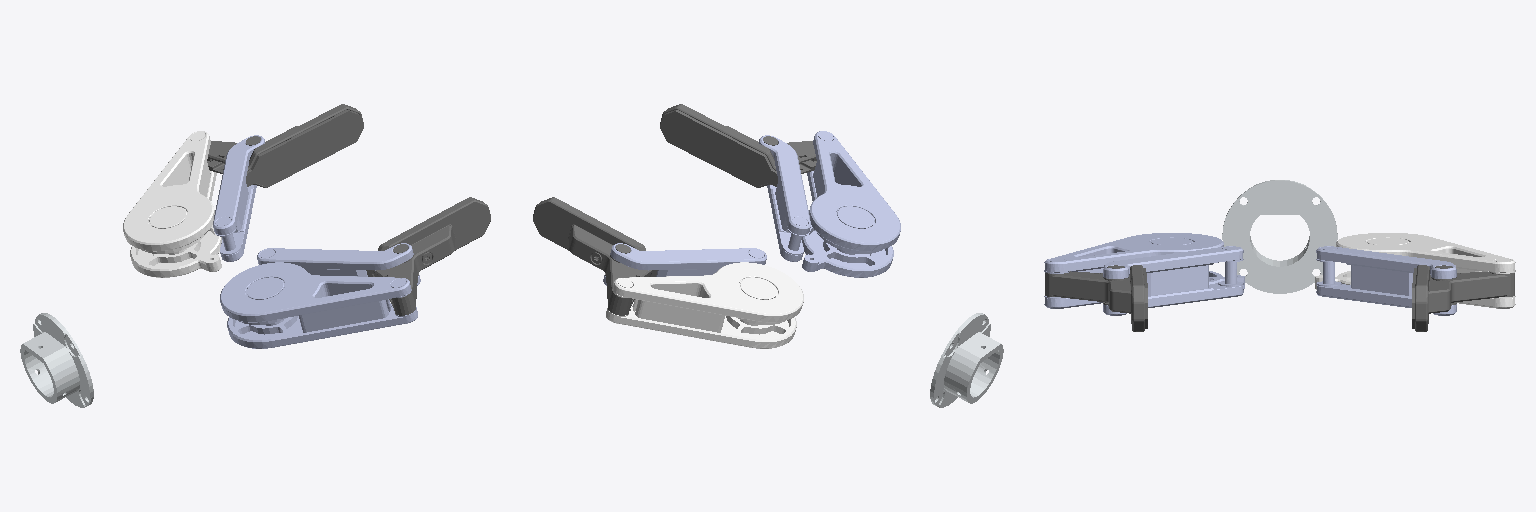
robot.urdf — DAS_Controller_V3_with_flange:
<?xml version="1.0" encoding="utf-8"?>
<!-- This URDF was automatically created by SolidWorks to URDF Exporter! Originally created by Stephen Brawner (brawner@gmail.com) 
     Commit Version: 1.6.0-4-g7f85cfe  Build Version: 1.6.7995.38578
     For more information, please see http://wiki.ros.org/sw_urdf_exporter -->
<robot
  name="DAS_Controller_V3_with_flange">
  <link
    name="base_link">
    <inertial>
      <origin
        xyz="-0.00473369666263078 0.000235956784116321 -0.0608228433401642"
        rpy="0 0 0" />
      <mass
        value="0.149856577681617" />
      <inertia
        ixx="0.00018830674510593"
        ixy="-6.78422090666385E-08"
        ixz="-1.96182253543102E-05"
        iyy="0.000106763841779269"
        iyz="1.81634805776435E-07"
        izz="0.000171533715802352" />
    </inertial>
    <visual>
      <origin
        xyz="0 0 0"
        rpy="0 0 0" />
      <geometry>
        <mesh
          filename="package://DAS_Controller_V3_with_flange/meshes/base_link.STL" />
      </geometry>
      <material
        name="">
        <color
          rgba="1 1 1 1" />
      </material>
    </visual>
    <collision>
      <origin
        xyz="0 0 0"
        rpy="0 0 0" />
      <geometry>
        <mesh
          filename="package://DAS_Controller_V3_with_flange/meshes/base_link.STL" />
      </geometry>
    </collision>
  </link>
  <link
    name="link1">
    <inertial>
      <origin
        xyz="0.0115012193603452 0.0137058307430064 -0.00861235542549358"
        rpy="0 0 0" />
      <mass
        value="0.02093495331508" />
      <inertia
        ixx="6.73989068995237E-06"
        ixy="-3.95839022559359E-06"
        ixz="2.01490719917717E-07"
        iyy="5.2567343731997E-06"
        iyz="3.13955918088435E-07"
        izz="1.15095149501083E-05" />
    </inertial>
    <visual>
      <origin
        xyz="0 0 0"
        rpy="0 0 0" />
      <geometry>
        <mesh
          filename="package://DAS_Controller_V3_with_flange/meshes/link1.STL" />
      </geometry>
      <material
        name="">
        <color
          rgba="1 1 1 1" />
      </material>
    </visual>
    <collision>
      <origin
        xyz="0 0 0"
        rpy="0 0 0" />
      <geometry>
        <mesh
          filename="package://DAS_Controller_V3_with_flange/meshes/link1.STL" />
      </geometry>
    </collision>
  </link>
  <joint
    name="joint1"
    type="revolute">
    <origin
      xyz="0.022786 0.042961 -0.059233"
      rpy="0 -0.2618 0" />
    <parent
      link="base_link" />
    <child
      link="link1" />
    <axis
      xyz="0 0 -1" />
    <limit
      lower="0"
      upper="0.925"
      effort="100"
      velocity="1" />
  </joint>
  <link
    name="link3">
    <inertial>
      <origin
        xyz="0.0281972854196237 -0.0278445505366139 -0.00938621959400143"
        rpy="0 0 0" />
      <mass
        value="0.0203237501202117" />
      <inertia
        ixx="8.44286661949908E-07"
        ixy="4.18698059122221E-07"
        ixz="2.15036107726852E-12"
        iyy="4.90959334176647E-06"
        iyz="2.50859869970747E-14"
        izz="4.88890712917801E-06" />
    </inertial>
    <visual>
      <origin
        xyz="0 0 0"
        rpy="0 0 0" />
      <geometry>
        <mesh
          filename="package://DAS_Controller_V3_with_flange/meshes/link3.STL" />
      </geometry>
      <material
        name="">
        <color
          rgba="0.498039215686275 0.498039215686275 0.498039215686275 1" />
      </material>
    </visual>
    <collision>
      <origin
        xyz="0 0 0"
        rpy="0 0 0" />
      <geometry>
        <mesh
          filename="package://DAS_Controller_V3_with_flange/meshes/link3.STL" />
      </geometry>
    </collision>
  </link>
  <joint
    name="joint3"
    type="revolute">
    <origin
      xyz="0.043182 0.04579 0"
      rpy="0 0 0" />
    <parent
      link="link1" />
    <child
      link="link3" />
    <axis
      xyz="0 0 -1" />
    <limit
      lower="-0.925"
      upper="0"
      effort="100"
      velocity="1" />
    <mimic
      joint="joint1"
      multiplier="-1"
      offset="0" />
  </joint>
  <link
    name="link2">
    <inertial>
      <origin
        xyz="0.0105744231181954 -0.0122453518603421 -0.0114433659540572"
        rpy="0 0 0" />
      <mass
        value="0.0316631540861347" />
      <inertia
        ixx="1.05927284042654E-05"
        ixy="6.10689347695809E-06"
        ixz="1.97264023531489E-07"
        iyy="8.10377382222261E-06"
        iyz="-3.18047314667756E-07"
        izz="1.8172684743536E-05" />
    </inertial>
    <visual>
      <origin
        xyz="0 0 0"
        rpy="0 0 0" />
      <geometry>
        <mesh
          filename="package://DAS_Controller_V3_with_flange/meshes/link2.STL" />
      </geometry>
      <material
        name="">
        <color
          rgba="0.792156862745098 0.819607843137255 0.933333333333333 1" />
      </material>
    </visual>
    <collision>
      <origin
        xyz="0 0 0"
        rpy="0 0 0" />
      <geometry>
        <mesh
          filename="package://DAS_Controller_V3_with_flange/meshes/link2.STL" />
      </geometry>
    </collision>
  </link>
  <joint
    name="joint2"
    type="revolute">
    <origin
      xyz="0.022786 -0.043039 -0.059233"
      rpy="0 -0.2618 0" />
    <parent
      link="base_link" />
    <child
      link="link2" />
    <axis
      xyz="0 0 -1" />
    <limit
      lower="-0.925"
      upper="0"
      effort="100"
      velocity="1" />
    <mimic
      joint="joint1"
      multiplier="-1"
      offset="0" />
  </joint>
  <link
    name="link4">
    <inertial>
      <origin
        xyz="0.0281972854196394 0.0278445505366352 -0.00938623119932044"
        rpy="0 0 0" />
      <mass
        value="0.0203237501202117" />
      <inertia
        ixx="8.44286661950155E-07"
        ixy="-4.1869805912325E-07"
        ixz="-2.15036110100873E-12"
        iyy="4.90959334176622E-06"
        iyz="2.50859839891789E-14"
        izz="4.88890712917801E-06" />
    </inertial>
    <visual>
      <origin
        xyz="0 0 0"
        rpy="0 0 0" />
      <geometry>
        <mesh
          filename="package://DAS_Controller_V3_with_flange/meshes/link4.STL" />
      </geometry>
      <material
        name="">
        <color
          rgba="0.498039215686275 0.498039215686275 0.498039215686275 1" />
      </material>
    </visual>
    <collision>
      <origin
        xyz="0 0 0"
        rpy="0 0 0" />
      <geometry>
        <mesh
          filename="package://DAS_Controller_V3_with_flange/meshes/link4.STL" />
      </geometry>
    </collision>
  </link>
  <joint
    name="joint4"
    type="revolute">
    <origin
      xyz="0.043182 -0.04579 0"
      rpy="0 0 0" />
    <parent
      link="link2" />
    <child
      link="link4" />
    <axis
      xyz="0 0 -1" />
    <limit
      lower="0"
      upper="0.925"
      effort="100"
      velocity="1" />
    <mimic
      joint="joint2"
      multiplier="-1"
      offset="0" />
  </joint>
  <link
    name="link5">
    <inertial>
      <origin
        xyz="0.0171977063474686 0.0220137207199803 -0.00935146125962831"
        rpy="0 0 0" />
      <mass
        value="0.00905477894016241" />
      <inertia
        ixx="1.76482236516288E-06"
        ixy="-1.09908418746098E-06"
        ixz="-5.25688530562007E-15"
        iyy="1.33793246136844E-06"
        iyz="-2.51436712790506E-17"
        izz="2.38165348606961E-06" />
    </inertial>
    <visual>
      <origin
        xyz="0 0 0"
        rpy="0 0 0" />
      <geometry>
        <mesh
          filename="package://DAS_Controller_V3_with_flange/meshes/link5.STL" />
      </geometry>
      <material
        name="">
        <color
          rgba="0.796078431372549 0.823529411764706 0.937254901960784 1" />
      </material>
    </visual>
    <collision>
      <origin
        xyz="0 0 0"
        rpy="0 0 0" />
      <geometry>
        <mesh
          filename="package://DAS_Controller_V3_with_flange/meshes/link5.STL" />
      </geometry>
    </collision>
  </link>
  <joint
    name="joint5"
    type="revolute">
    <origin
      xyz="0.037516 0.019478 -0.055286"
      rpy="0 -0.2618 0" />
    <parent
      link="base_link" />
    <child
      link="link5" />
    <axis
      xyz="0 0 -1" />
    <limit
      lower="0"
      upper="0.925"
      effort="100"
      velocity="0" />
    <mimic
      joint="joint1"
      multiplier="1"
      offset="0" />
  </joint>
  <link
    name="link6">
    <inertial>
      <origin
        xyz="0.0171977063705079 -0.0220137207558635 -0.00935146123890655"
        rpy="0 0 0" />
      <mass
        value="0.00905477890179401" />
      <inertia
        ixx="1.76482235928743E-06"
        ixy="1.09908418412139E-06"
        ixz="6.77470977871522E-15"
        iyy="1.33793245801761E-06"
        iyz="-2.13943787240014E-15"
        izz="2.38165347850042E-06" />
    </inertial>
    <visual>
      <origin
        xyz="0 0 0"
        rpy="0 0 0" />
      <geometry>
        <mesh
          filename="package://DAS_Controller_V3_with_flange/meshes/link6.STL" />
      </geometry>
      <material
        name="">
        <color
          rgba="0.796078431372549 0.823529411764706 0.937254901960784 1" />
      </material>
    </visual>
    <collision>
      <origin
        xyz="0 0 0"
        rpy="0 0 0" />
      <geometry>
        <mesh
          filename="package://DAS_Controller_V3_with_flange/meshes/link6.STL" />
      </geometry>
    </collision>
  </link>
  <joint
    name="joint6"
    type="revolute">
    <origin
      xyz="0.037516 -0.019556 -0.055286"
      rpy="0 -0.2618 0" />
    <parent
      link="base_link" />
    <child
      link="link6" />
    <axis
      xyz="0 0 -1" />
    <limit
      lower="-0.925"
      upper="0"
      effort="100"
      velocity="1" />
    <mimic
      joint="joint2"
      multiplier="1"
      offset="0" />
  </joint>
  <link
    name="link_Flange">
    <inertial>
      <origin
        xyz="0.00904036460093721 -9.03917189348789E-11 0.000393441133830726"
        rpy="0 0 0" />
      <mass
        value="0.0139886523044545" />
      <inertia
        ixx="3.33382539864384E-06"
        ixy="-2.60843892609458E-15"
        ixz="-2.1563018545546E-08"
        iyy="1.89789021267794E-06"
        iyz="2.55399656626754E-14"
        izz="1.97123755230916E-06" />
    </inertial>
    <visual>
      <origin
        xyz="0 0 0"
        rpy="0 0 0" />
      <geometry>
        <mesh
          filename="package://DAS_Controller_V3_with_flange/meshes/link_Flange.STL" />
      </geometry>
      <material
        name="">
        <color
          rgba="0.898039215686275 0.917647058823529 0.929411764705882 1" />
      </material>
    </visual>
    <collision>
      <origin
        xyz="0 0 0"
        rpy="0 0 0" />
      <geometry>
        <mesh
          filename="package://DAS_Controller_V3_with_flange/meshes/link_Flange.STL" />
      </geometry>
    </collision>
  </link>
  <joint
    name="joint_Flange"
    type="fixed">
    <origin
      xyz="-0.067889 -3.8794E-05 -0.097619"
      rpy="0 -0.2618 0" />
    <parent
      link="base_link" />
    <child
      link="link_Flange" />
    <axis
      xyz="0 0 0" />
  </joint>
</robot>

--- What the picture shows (computed from the rendered views, not written in the file) ---
The picture shows the robot from 3 angles, left to right: view 1: azimuth 30°, elevation 25°; view 2: azimuth 150°, elevation 25°; view 3: azimuth 270°, elevation 25°; orthographic projection.
Robot: DAS_Controller_V3_with_flange — 8 links, 7 joints (6 revolute, 1 fixed); root link base_link; default pose: all joints at 0.
Visible links, largest first — view 1: link2, link1, link3, link4, link_Flange, link5, link6; view 2: link1, link2, link4, link3, link_Flange, link6, link5; view 3: link_Flange, link6, link5, link1, link2, link3, link4.
Boxes of the visible links, bbox=[...] form: link2: bbox=[220, 262, 417, 348]; link1: bbox=[123, 131, 221, 277]; link3: bbox=[207, 104, 363, 187]; link4: bbox=[366, 197, 490, 315]; link_Flange: bbox=[20, 313, 93, 407]; link5: bbox=[213, 135, 264, 261]; link6: bbox=[257, 243, 420, 285]; link1: bbox=[606, 262, 803, 348]; link2: bbox=[802, 131, 900, 277]; link4: bbox=[660, 104, 816, 187]; link3: bbox=[533, 197, 657, 315]; link_Flange: bbox=[930, 313, 1003, 407]; link6: bbox=[759, 135, 810, 261]; link5: bbox=[603, 243, 766, 285]; link_Flange: bbox=[1222, 180, 1337, 293]; link6: bbox=[1103, 246, 1243, 315]; link5: bbox=[1316, 246, 1456, 315]; link1: bbox=[1315, 233, 1515, 308]; link2: bbox=[1044, 233, 1244, 308]; link3: bbox=[1412, 265, 1514, 331]; link4: bbox=[1045, 265, 1147, 331].
Bounding box of the posed robot: 0.2009 × 0.1876 × 0.083 m (x, y, z).
Meshes: 8 distinct files referenced, 7 mesh visuals loaded (7 binary STL); not drawn: 1 (reference not matched to a file when rendering).
